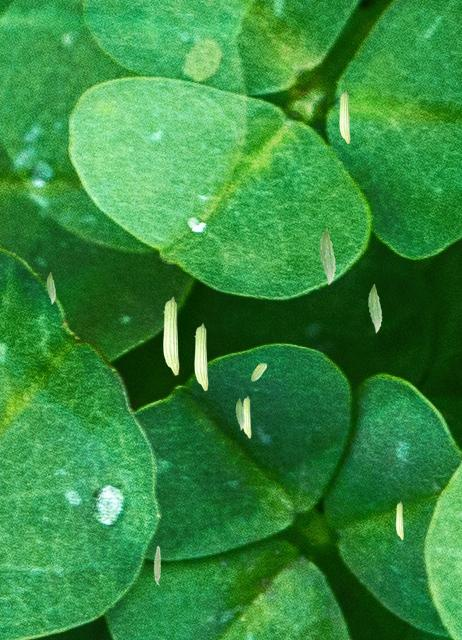ampalaya: (162, 296, 179, 375), (319, 227, 336, 285), (194, 322, 208, 391), (368, 283, 382, 333), (339, 90, 350, 144), (242, 395, 251, 438), (395, 501, 404, 540), (235, 397, 245, 430), (46, 271, 56, 304), (250, 362, 267, 381), (153, 545, 161, 585)
